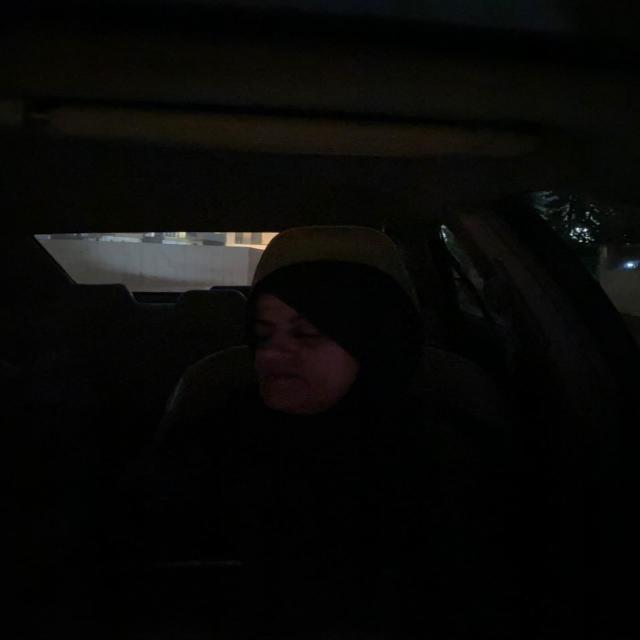drowsy: (248, 270, 378, 408)
